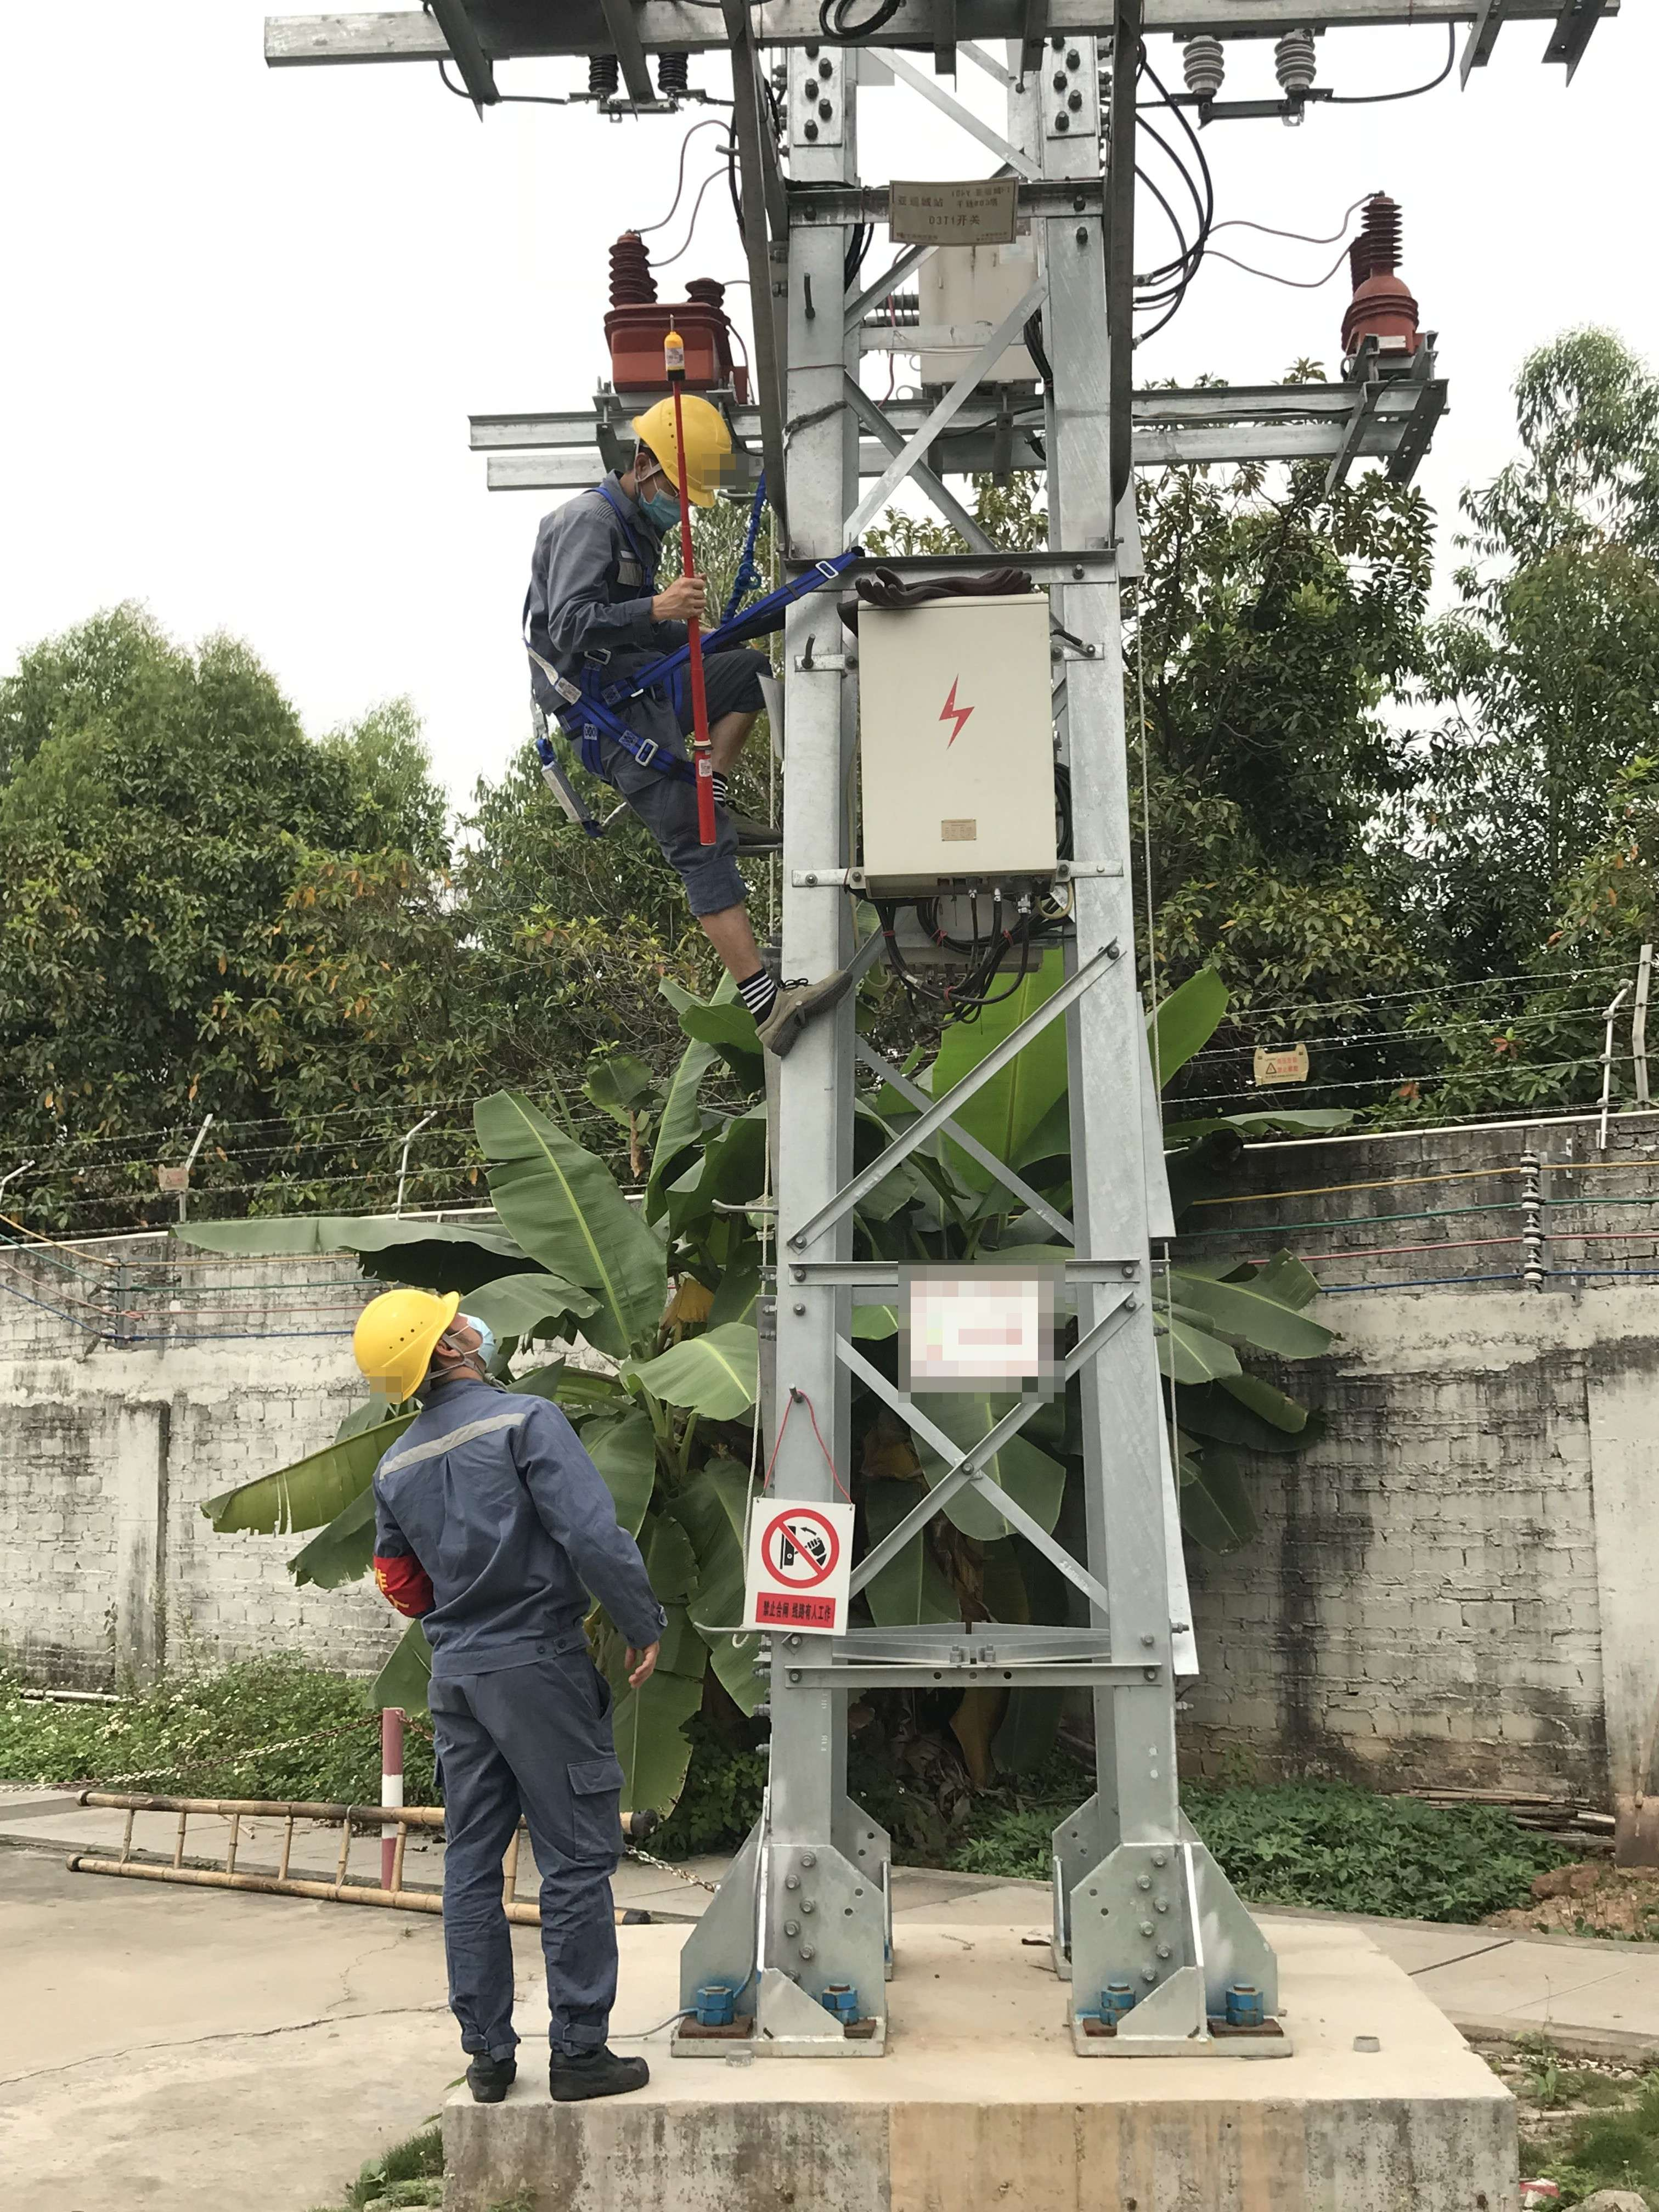downsuit: (425, 1665, 615, 2052), (596, 705, 735, 920)
upsuit: (366, 1404, 629, 1641), (537, 493, 678, 709)
wrongbottom: (687, 890, 791, 1033)
